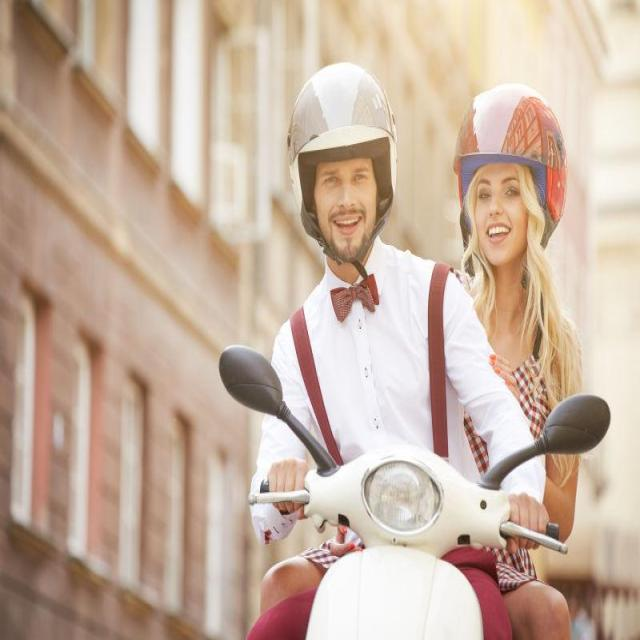helmet: (284, 57, 402, 271)
illegal_helmet: (448, 80, 570, 374)
